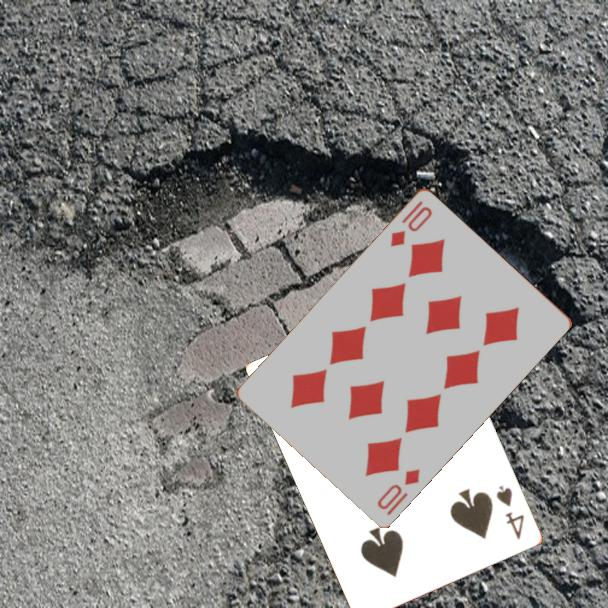d10: (374, 464, 423, 518), (387, 196, 435, 249)
s04: (493, 482, 528, 543)
